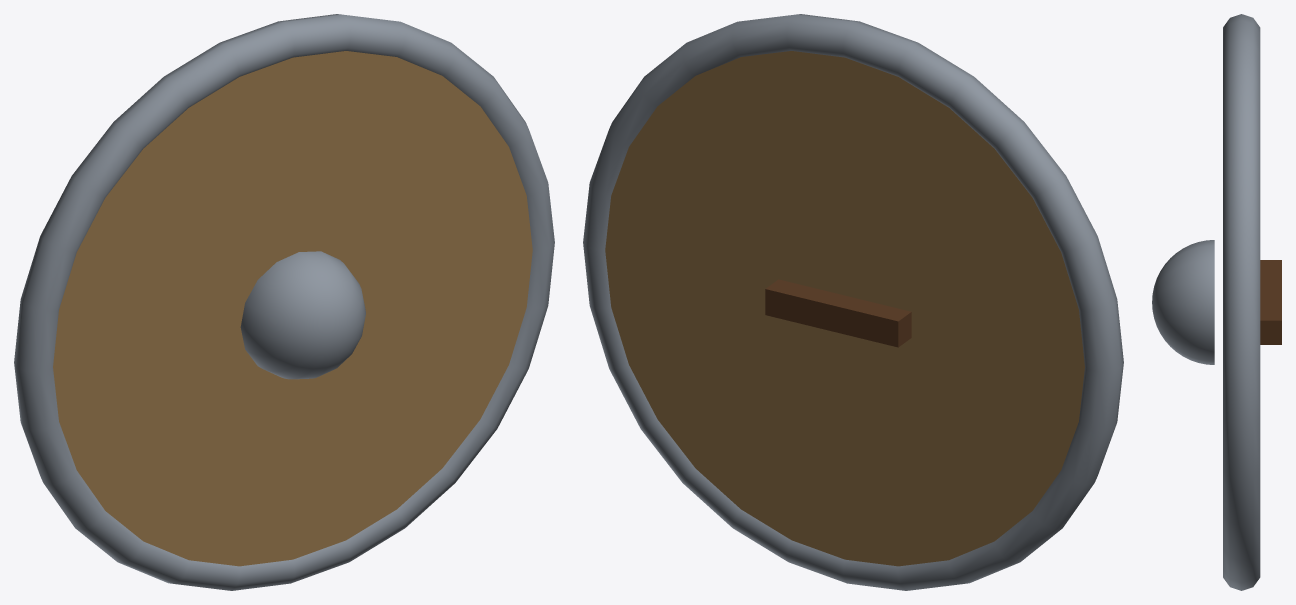
File: shield.glb
3 views of the same model, side by side, from view 1: azimuth 30°, elevation 25°; view 2: azimuth 150°, elevation 25°; view 3: azimuth 270°, elevation 25° (orthographic). The views are drawn at different scales.
Parts seen in each view (by area): view 1: face, rim, boss; view 2: face, rim, handle; view 3: rim, boss, handle.
Part boxes in pixels (x1=…): face: x1=53, y1=51, x2=532, y2=566; rim: x1=14, y1=14, x2=554, y2=590; boss: x1=240, y1=251, x2=365, y2=379; face: x1=605, y1=51, x2=1084, y2=566; rim: x1=583, y1=14, x2=1123, y2=590; handle: x1=765, y1=279, x2=911, y2=347; rim: x1=1223, y1=14, x2=1260, y2=590; boss: x1=1152, y1=240, x2=1214, y2=364; handle: x1=1260, y1=260, x2=1281, y2=344.
Bounding box in the file's own units: 0.644 × 0.644 × 0.145.
